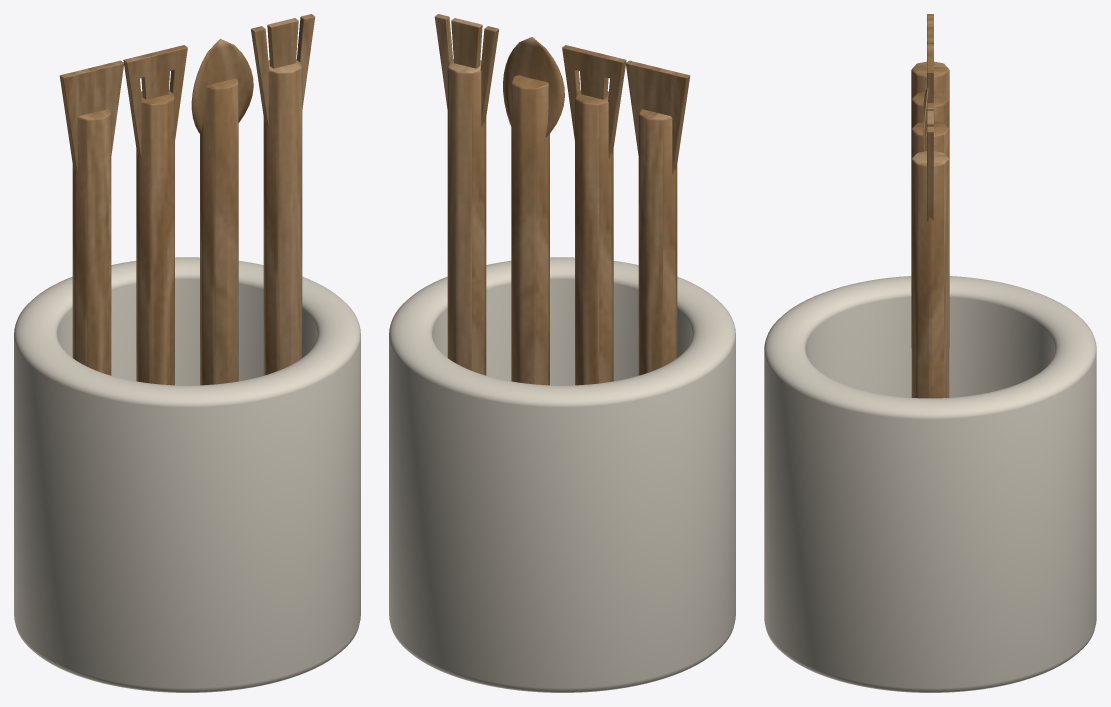
The model's file is utensil-crock.glb.
3 views of the same model, side by side, from view 1: azimuth 30°, elevation 25°; view 2: azimuth 150°, elevation 25°; view 3: azimuth 270°, elevation 25° (orthographic). The views are drawn at different scales.
Parts seen in each view (by area): view 1: catalog_surface_RealismUV; view 2: catalog_surface_RealismUV; view 3: catalog_surface_RealismUV.
Part boxes in pixels (x1,y1,x2,y2): catalog_surface_RealismUV: (14,14,360,692); catalog_surface_RealismUV: (389,14,735,692); catalog_surface_RealismUV: (764,14,1096,692).
Bounding box in the file's own units: 0.18 × 0.33 × 0.18.
Materials: 2 (1 with a texture image).
